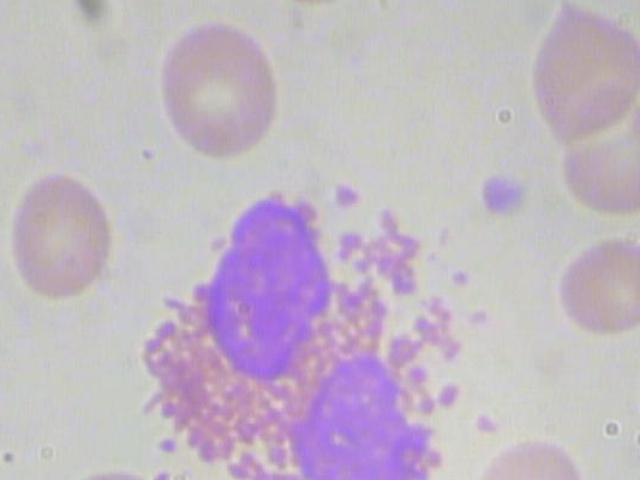Platelets: (475, 168, 537, 219)
RBC: (158, 20, 291, 169), (0, 162, 129, 310), (522, 0, 640, 133), (545, 76, 640, 220), (545, 230, 640, 338), (251, 0, 385, 16), (629, 330, 640, 463)
WBC: (116, 173, 486, 480)
